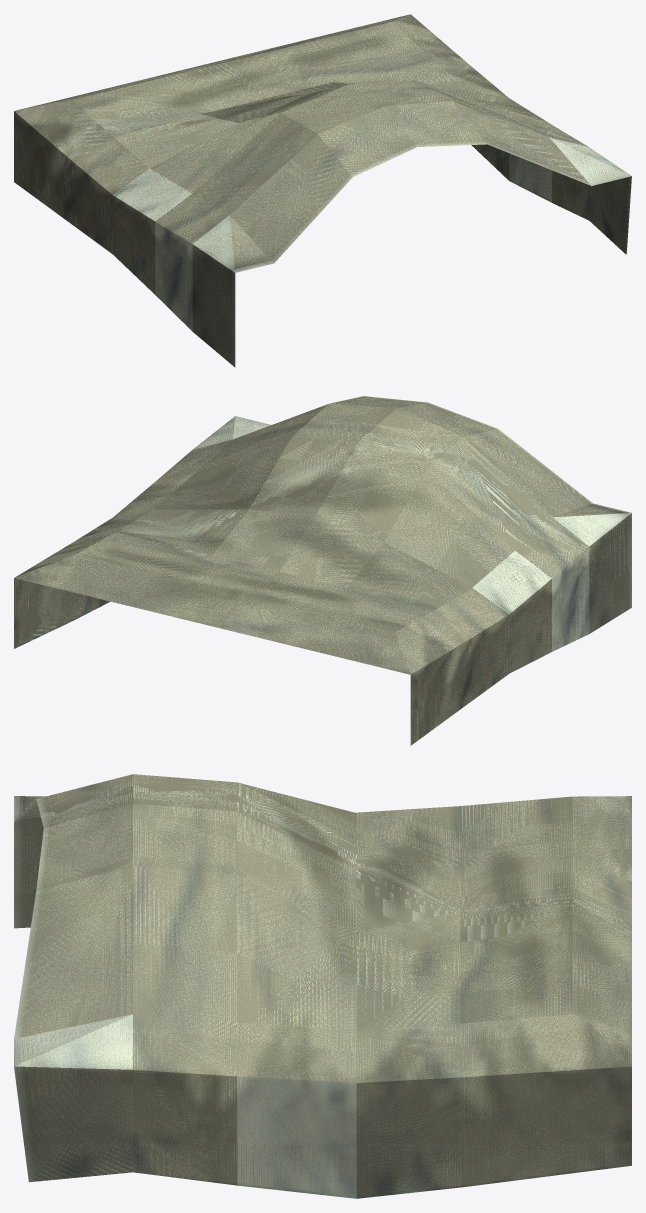
3 renders of one model, top to bottom at view 1: azimuth 30°, elevation 25°; view 2: azimuth 150°, elevation 25°; view 3: azimuth 270°, elevation 25°, orthographic. The views are drawn at different scales.
Parts seen in each view (by area): view 1: mesh_Mesh_T23bed01; view 2: mesh_Mesh_T23bed01; view 3: mesh_Mesh_T23bed01.
Boxes of the visible parts, box(x1,y1,x2,y2) form: mesh_Mesh_T23bed01: box(14, 14, 631, 367); mesh_Mesh_T23bed01: box(14, 396, 631, 745); mesh_Mesh_T23bed01: box(14, 774, 631, 1198).
Size of the model in its own units: 1.75 by 0.775 by 1.69.
Materials: 1 (1 with a texture image).
